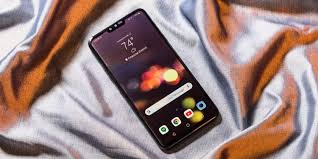lg: (83, 8, 226, 154)
